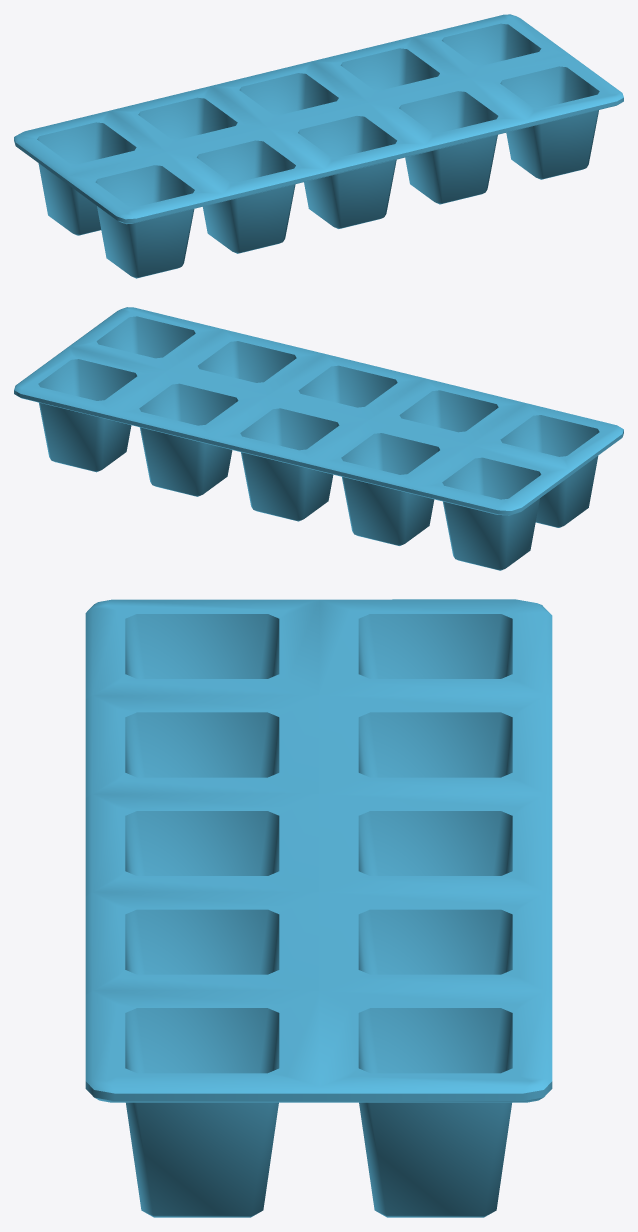
The model's file is Misc Ice Tray.glb.
The picture shows the model from 3 angles, top to bottom: view 1: azimuth 30°, elevation 25°; view 2: azimuth 150°, elevation 25°; view 3: azimuth 270°, elevation 25°; orthographic projection. The views are drawn at different scales.
Visible parts, largest first — view 1: misc_ice_tray_Cube.019; view 2: misc_ice_tray_Cube.019; view 3: misc_ice_tray_Cube.019.
Boxes of the visible parts, x1,y1,x2,y2 form: misc_ice_tray_Cube.019: (14,14,623,278); misc_ice_tray_Cube.019: (14,307,623,570); misc_ice_tray_Cube.019: (85,599,552,1217).
Bounding box in the file's own units: 5 × 0.7432 × 2.
1 material, 1 textured.
